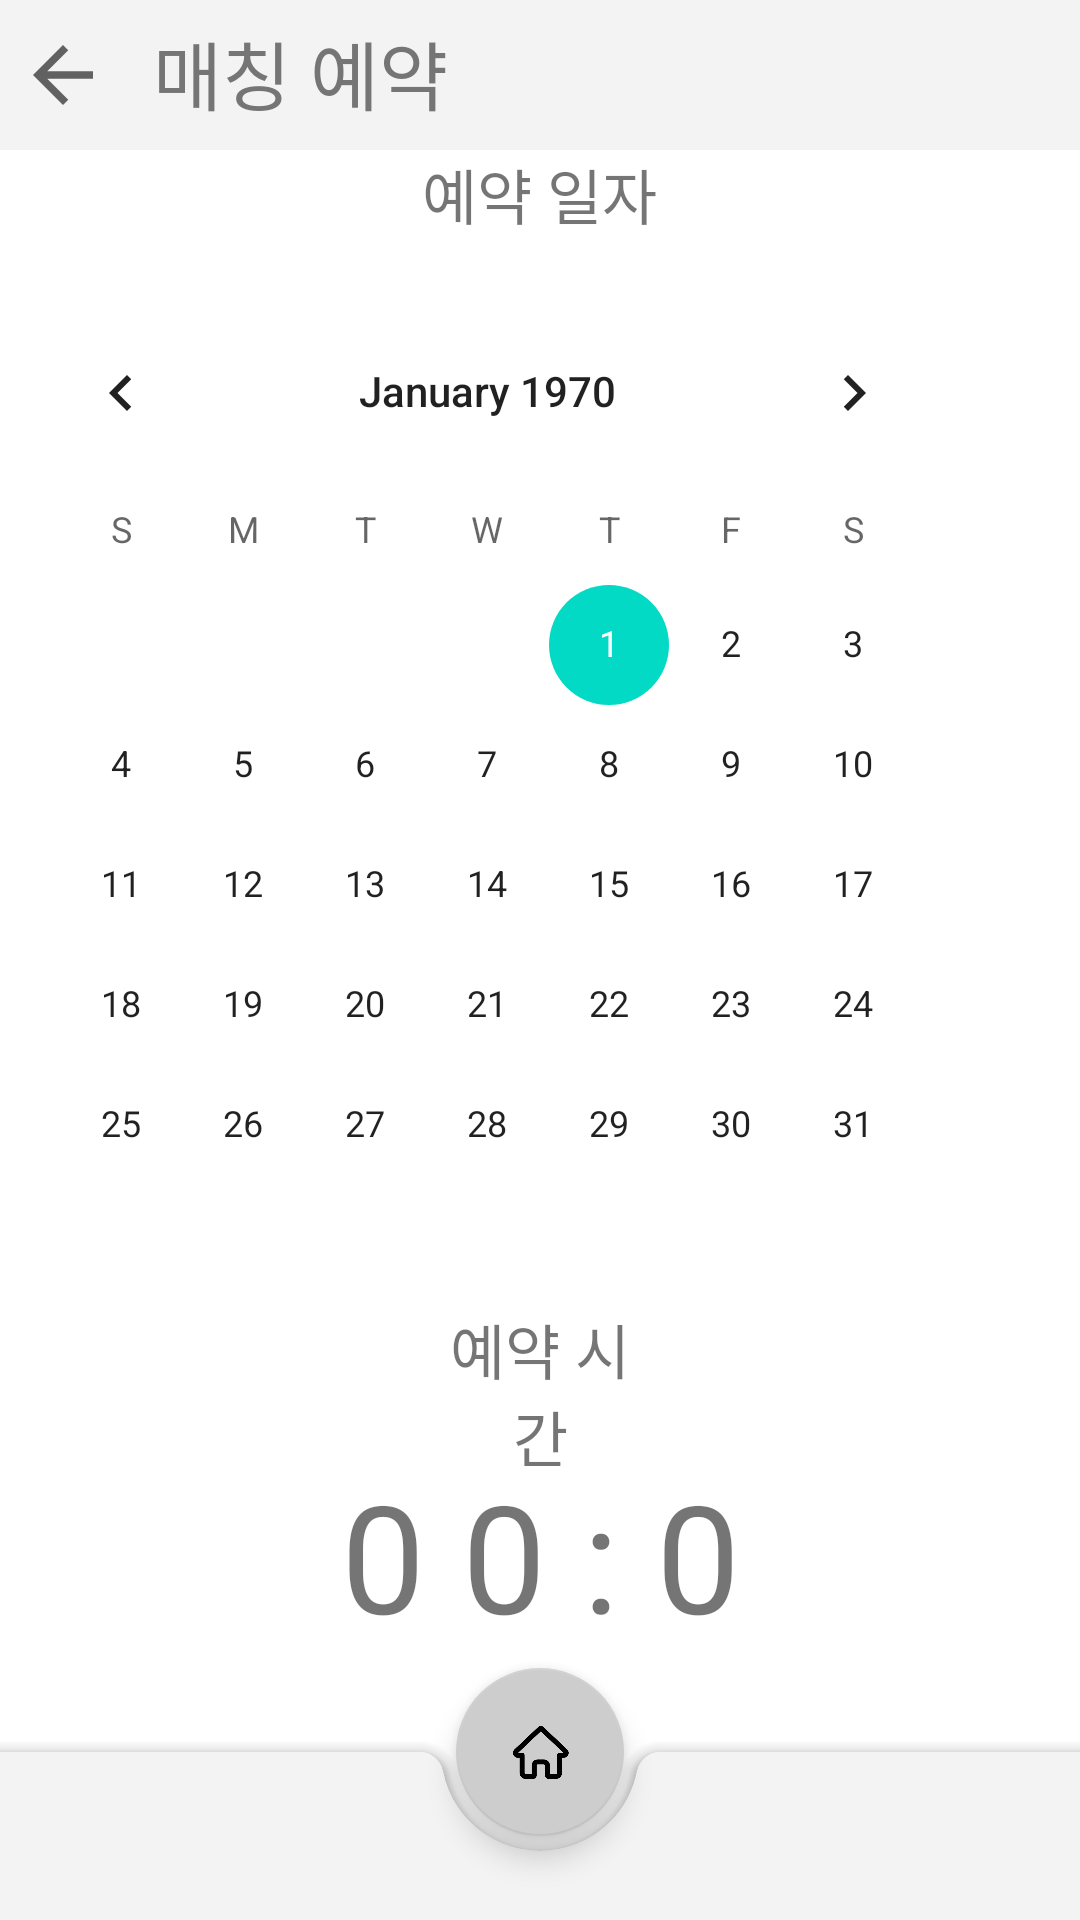

Icon bounding boxes for this 1080 × 1920 phone screenshot, format rect(x1, y1, x2, y2):
homebutton: rect(456, 1668, 624, 1836)
